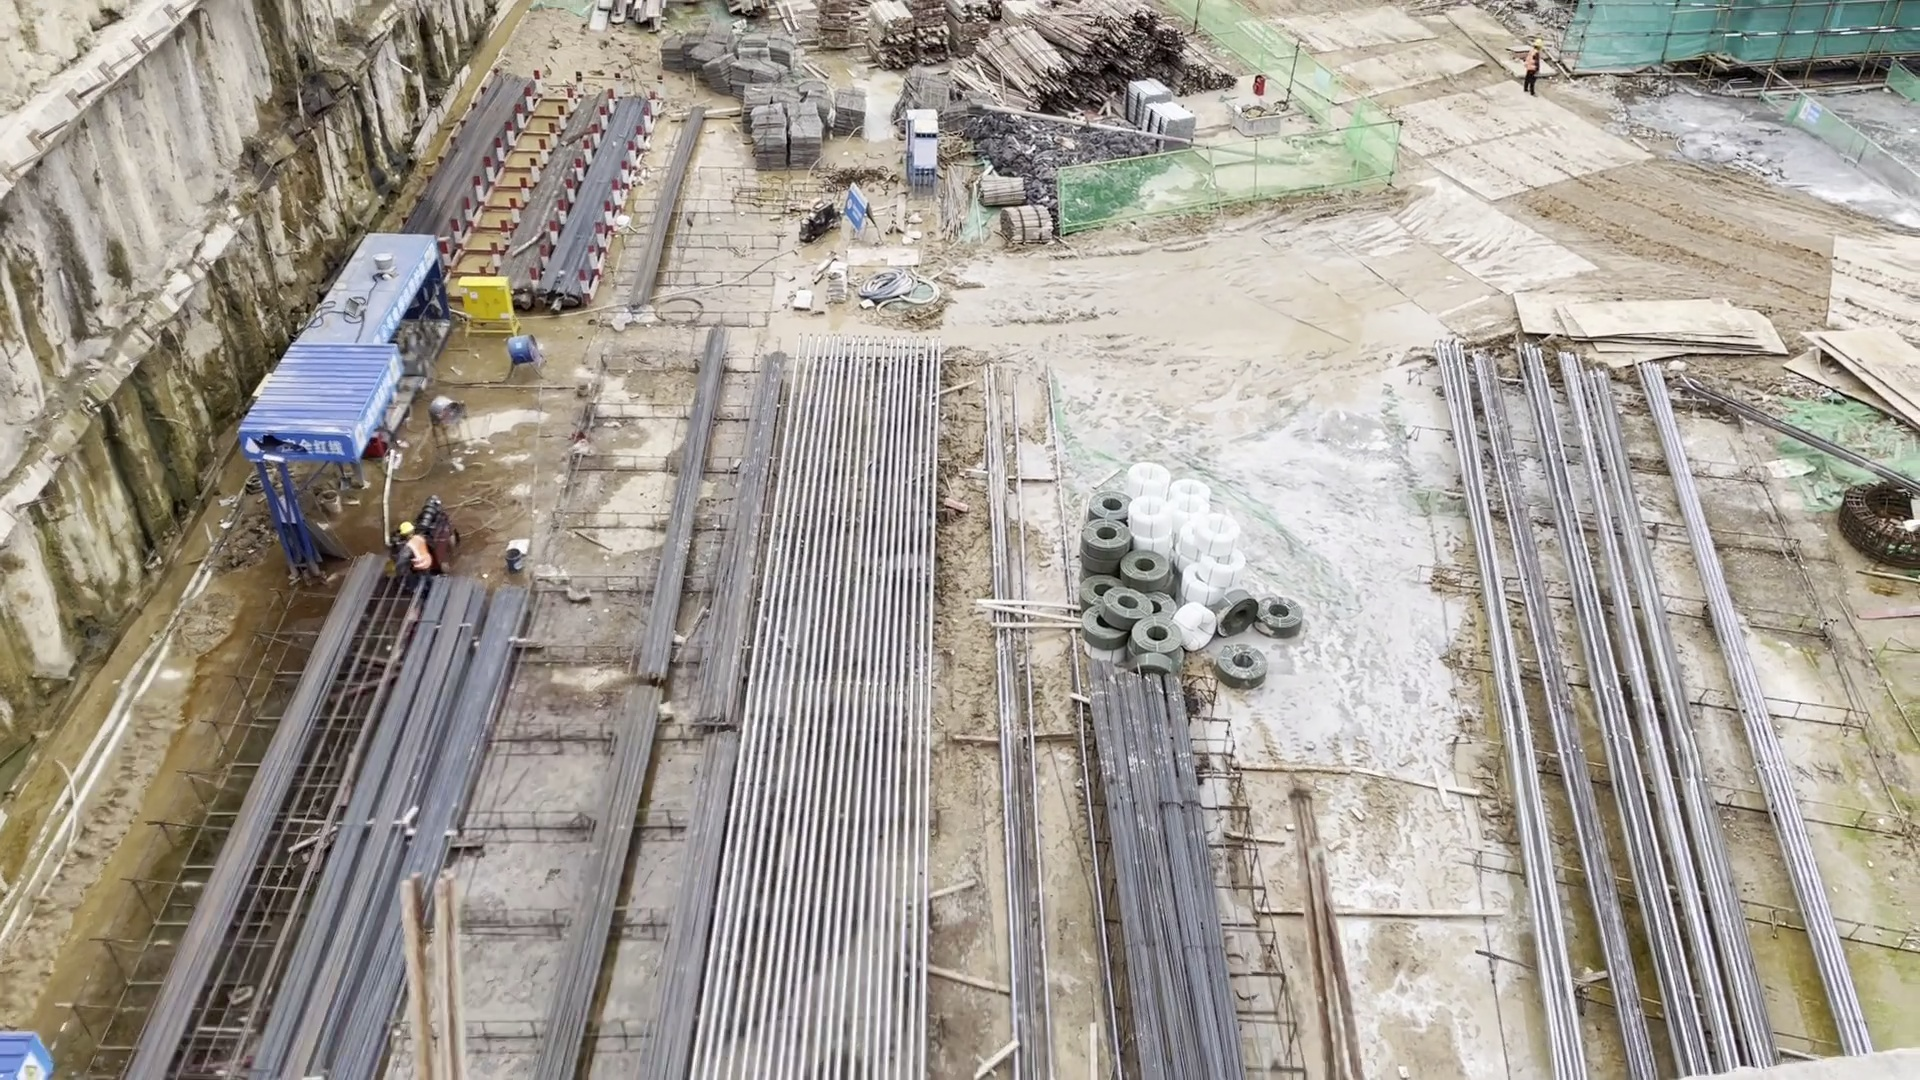brick: (1130, 77, 1187, 149)
ebox: (453, 273, 516, 335)
helmet: (397, 522, 411, 537), (1531, 37, 1544, 50)
hopper: (1226, 97, 1277, 147)
person: (394, 510, 440, 573), (1516, 35, 1553, 98)
rebar: (1486, 348, 1765, 1041), (1078, 644, 1254, 1059), (301, 625, 459, 1080), (633, 335, 795, 701), (591, 699, 744, 1080), (513, 81, 631, 293), (406, 80, 523, 232), (631, 101, 714, 296)
slogan: (379, 241, 442, 341), (363, 363, 411, 444), (237, 427, 346, 457)
vest: (407, 535, 431, 571), (1526, 50, 1541, 73)
wood: (998, 9, 1214, 84), (865, 11, 997, 56)
